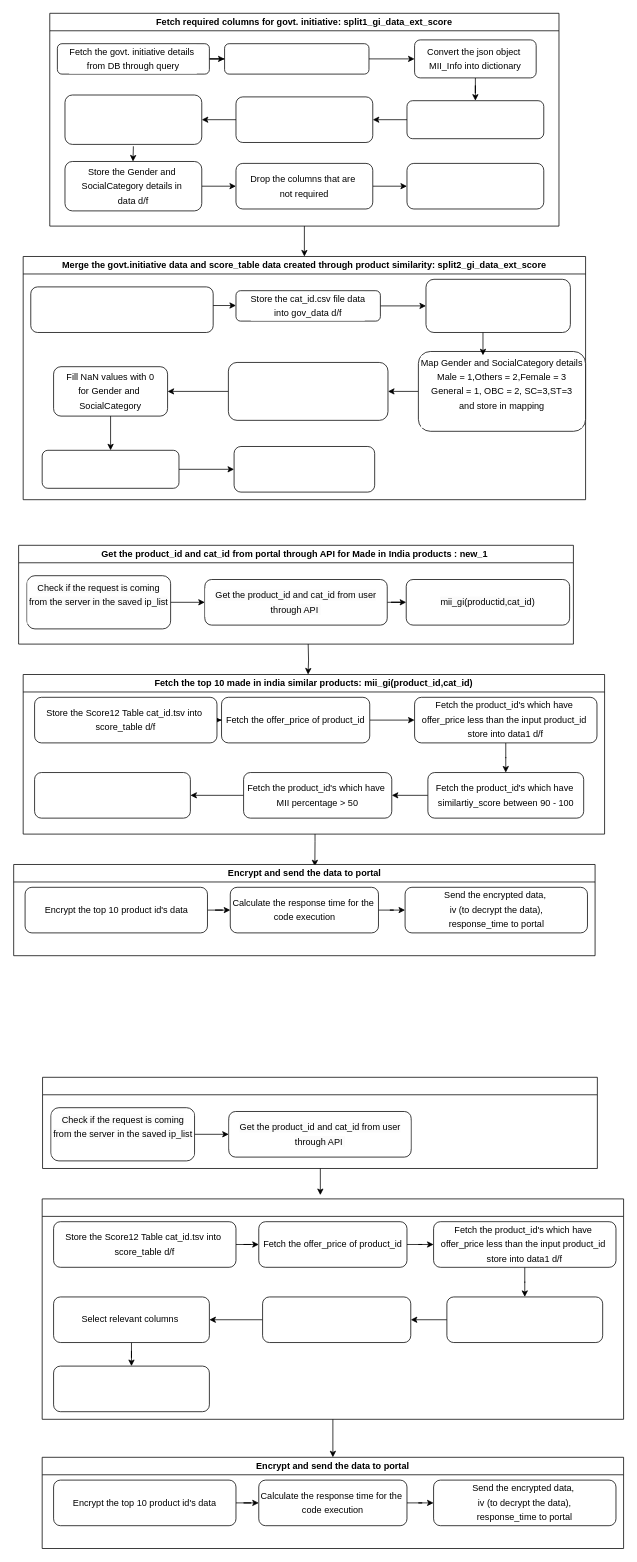
Image size: 637x1562. Some labels were removed from this diagram. The shapes that lost their labels are listed below. From the top down, each one's box as (x1, y1, x2, y2) in pixels, then its label:
(224, 43, 369, 74): Store the data in 'data' d/f
(64, 94, 202, 144): Fetch the Gender and socialcategory from msme_verification_details
(235, 96, 373, 142): Convert the json object msme_verification_details into dictionary
(406, 100, 544, 139): Fetch the origin_country and sold_as from MII_Info
(406, 163, 544, 209): Store the data into cat_id.csv file
(30, 286, 213, 332): Store the cat_id.tsv(prod. similarity) file into main_data_1 d/f
(425, 279, 570, 332): Merge the main_data_1 and gov_data into main_data using product_id
(228, 362, 388, 420): Replace categorical values with numerical values using the mapping
(41, 450, 179, 488): Select and order specific columns for final score table
(233, 446, 375, 492): Save the final score table to Score12 Table cat_id.csv file
(34, 772, 190, 818): Fetch the top 10 MII products
(42, 1077, 597, 1168): Get the product_id and cat_id from portal through API for MSME products : new_2
(41, 1198, 624, 1419): Fetch the top 10 msme similar products: msme_gi(product_id,cat_id)
(262, 1296, 411, 1343): Sort results by gender and social_category
(446, 1296, 603, 1343): Filter data for msme=yes and sold_as= OEM
(53, 1365, 209, 1412): Filter data for female in gender and sc/st in social_category
